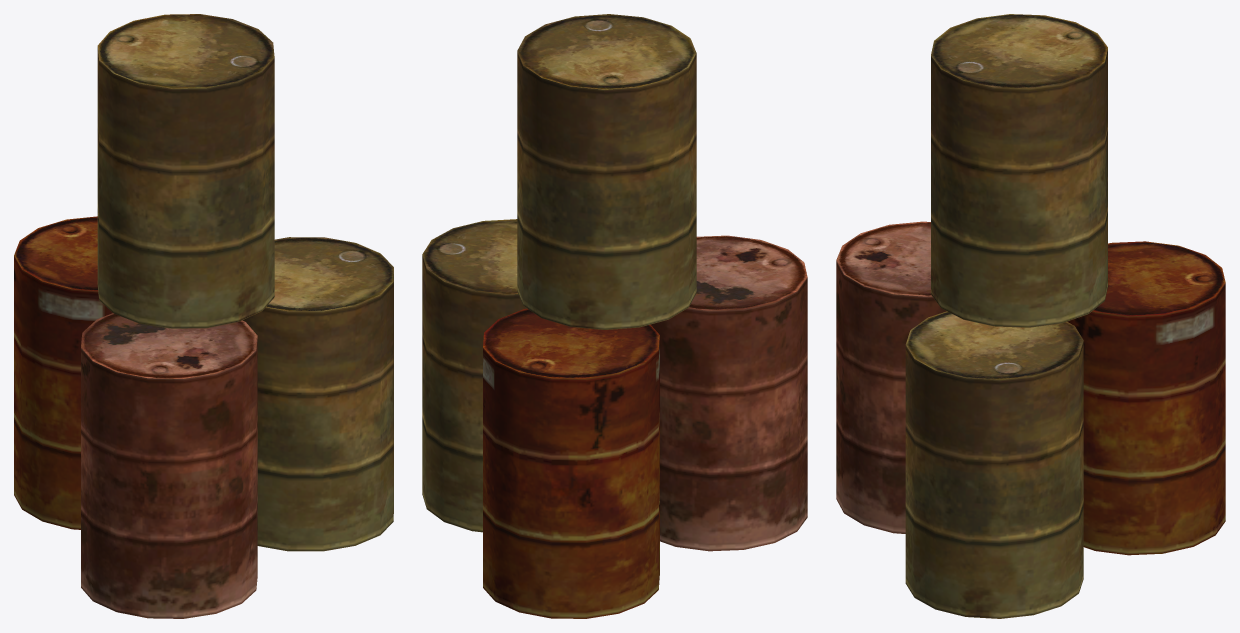
File: od_stack_of_four_upright_3.fbx
The picture shows the model from 3 angles, left to right: view 1: azimuth 30°, elevation 25°; view 2: azimuth 150°, elevation 25°; view 3: azimuth 270°, elevation 25°; orthographic projection.
Visible parts, largest first — view 1: mesh_0, mesh_1, mesh_2; view 2: mesh_0, mesh_2, mesh_1; view 3: mesh_0, mesh_2, mesh_1.
Boxes of the visible parts, box(x1,y1,x2,y2) form: mesh_0: box(97, 14, 393, 551); mesh_1: box(81, 313, 257, 618); mesh_2: box(14, 216, 112, 529); mesh_0: box(422, 14, 696, 532); mesh_2: box(483, 308, 659, 618); mesh_1: box(650, 235, 807, 551); mesh_0: box(905, 14, 1107, 618); mesh_2: box(1067, 241, 1225, 555); mesh_1: box(836, 221, 946, 533).
Bounding box in the file's own units: 126 × 177 × 130.
3 materials, 3 textured.
